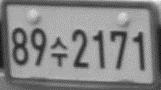1: (92, 28, 106, 69), (131, 30, 145, 71)
2: (71, 28, 89, 68)
7: (110, 29, 127, 69)
8: (11, 26, 28, 65)
9: (30, 27, 46, 66)
수: (49, 36, 68, 67)
